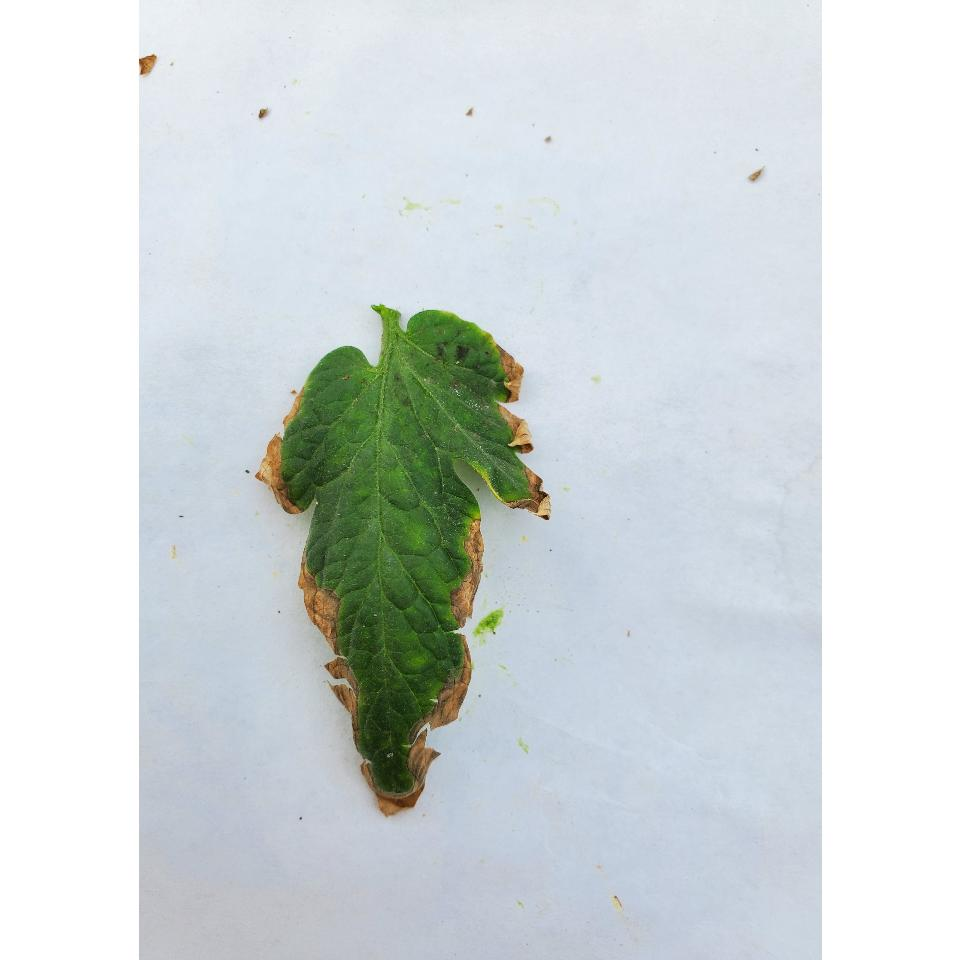tomato_bacterial_blight: (255, 297, 559, 805)
